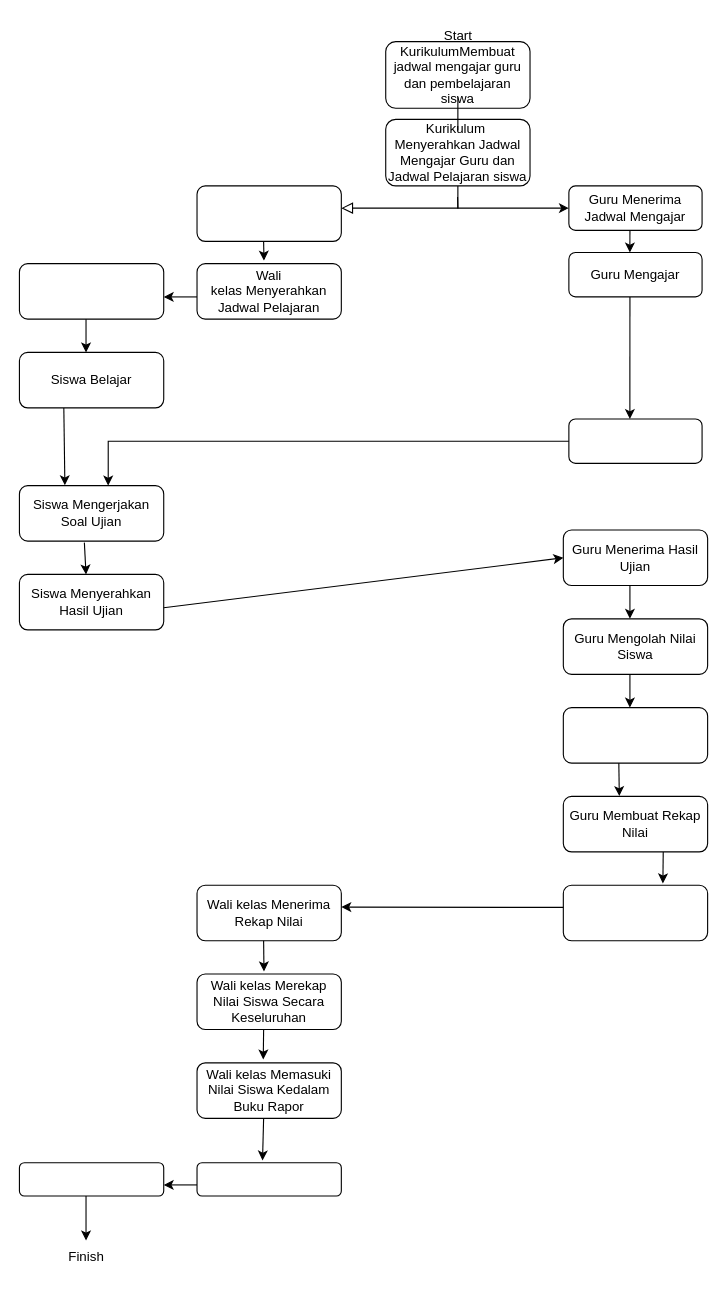
This 727x1292 diagram has some shape labels left out. The shapes that lost their labels are listed below. From the top down, each one's centre as x and y in pixels, then its label:
At (268,213): "Wali kelas Menerima Jadwal Pelajaran Siswa".
At (91,291): "Siswa Menerima Jadwal pelajaran".
At (635,440): "Guru Memberikan Soal Ujian".
At (635,735): "Guru Input Nilai Ujian ke dalam form nilai".
At (635,912): "Guru Menyerahkan Rekap Nilai".
At (91,1179): "Siswa Menerima Rapor".
At (268,1179): "Wali kelas Memberi Rapor".
